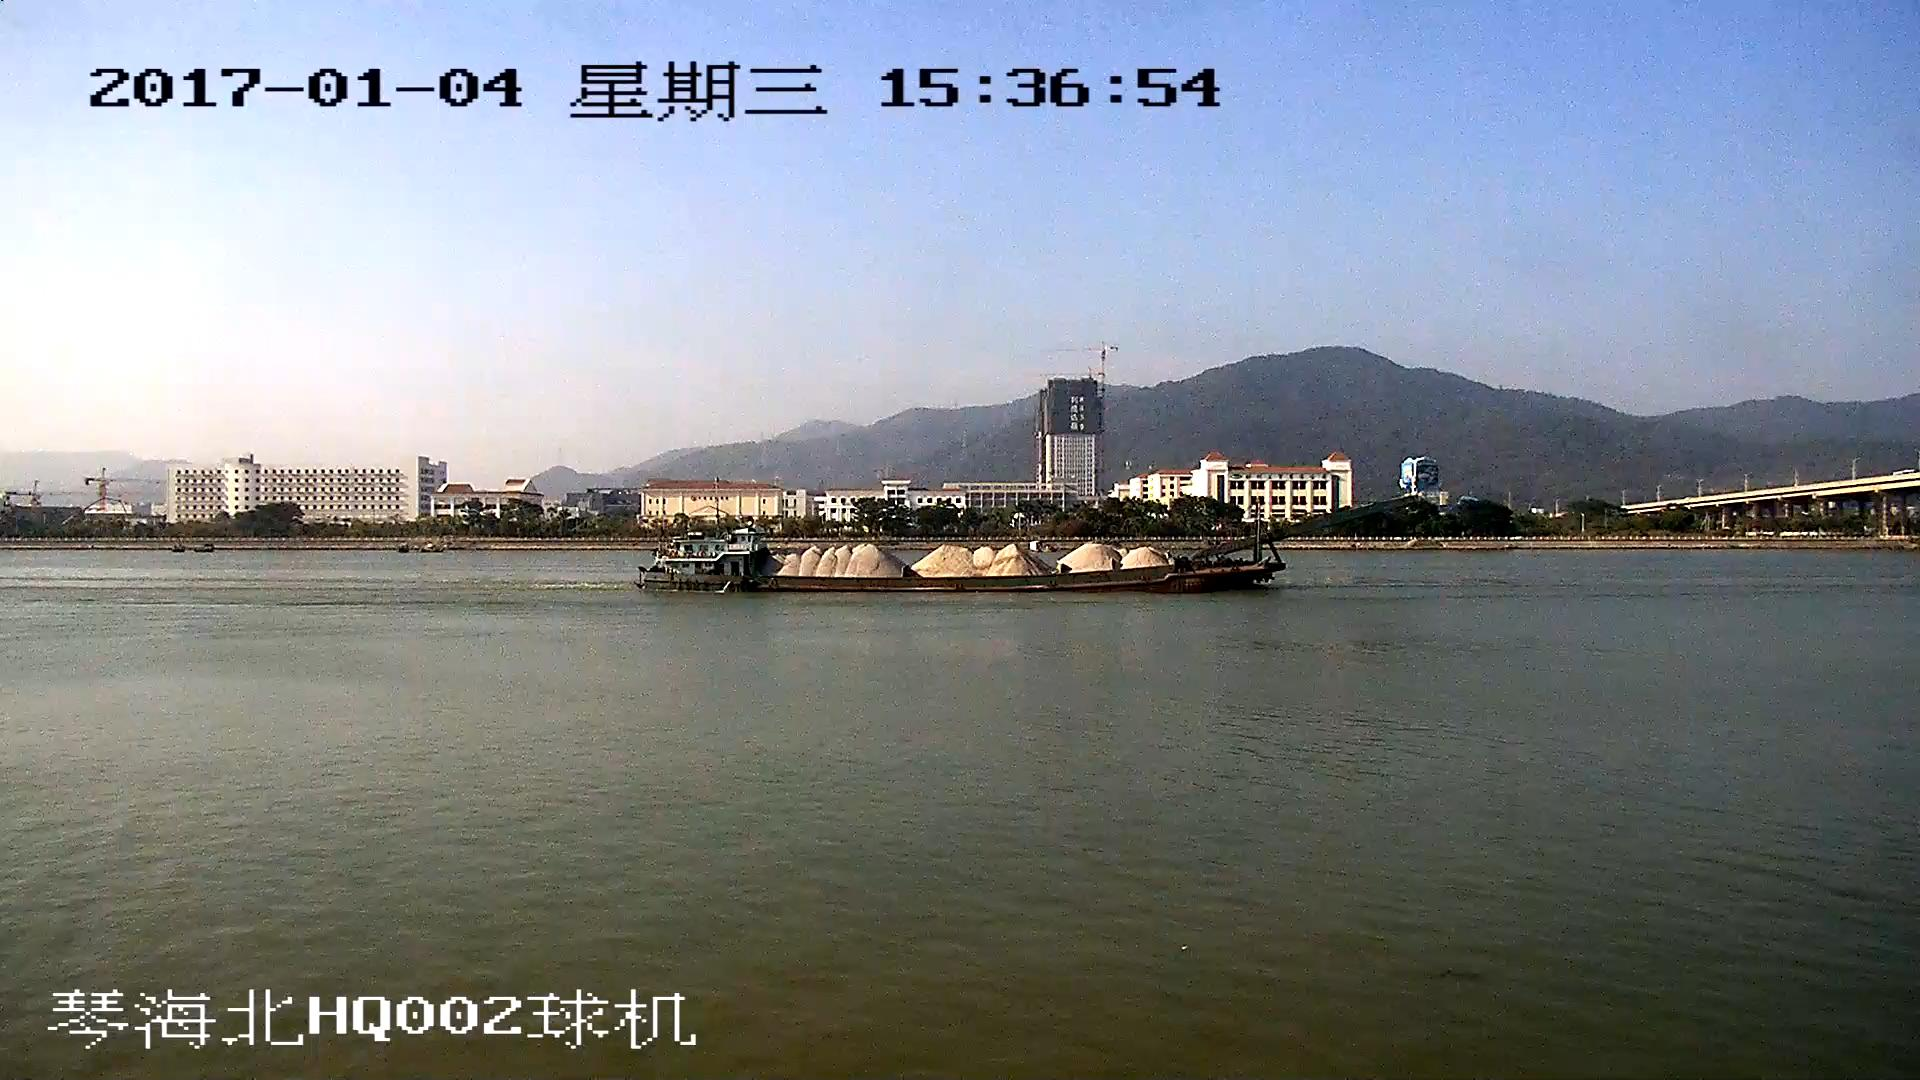ore carrier: (638, 498, 1415, 595)
